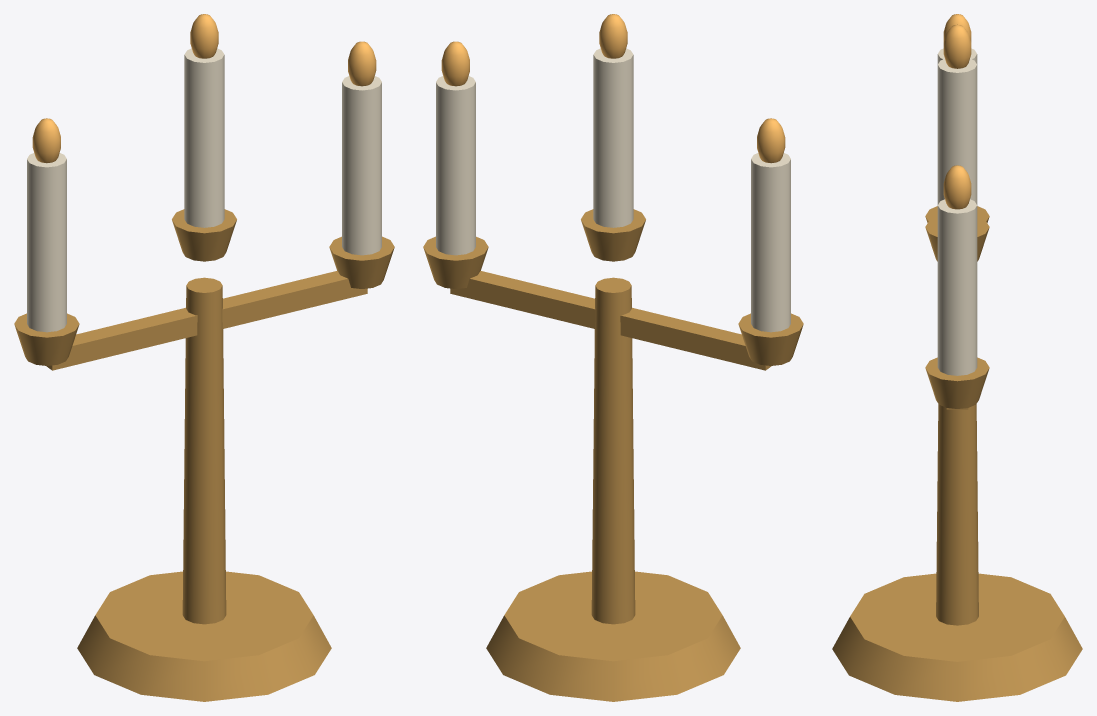
Rendered from candelabra.glb.
3 renders of one model, left to right at view 1: azimuth 30°, elevation 25°; view 2: azimuth 150°, elevation 25°; view 3: azimuth 270°, elevation 25°, orthographic.
Visible parts, largest first — view 1: Part0, Part1, Part2, Part7, Part10, Part4, Part6, Part3, Part9, Part8, Part11, Part5; view 2: Part0, Part1, Part2, Part7, Part10, Part4, Part6, Part3, Part9, Part8, Part11, Part5; view 3: Part0, Part1, Part10, Part7, Part9, Part8, Part11, Part6.
Part boxes in pixels (<box>): Part0: <box>77,571,331,701</box>; Part1: <box>182,277,226,624</box>; Part2: <box>46,271,367,370</box>; Part7: <box>184,48,224,227</box>; Part10: <box>342,76,381,255</box>; Part4: <box>27,153,66,332</box>; Part6: <box>172,209,236,261</box>; Part3: <box>14,313,79,365</box>; Part9: <box>329,236,394,288</box>; Part8: <box>190,14,218,58</box>; Part11: <box>348,41,376,86</box>; Part5: <box>32,118,60,163</box>; Part0: <box>486,571,740,701</box>; Part1: <box>591,277,635,624</box>; Part2: <box>450,271,771,370</box>; Part7: <box>593,48,633,227</box>; Part10: <box>436,76,475,255</box>; Part4: <box>751,153,790,332</box>; Part6: <box>581,209,645,261</box>; Part3: <box>738,313,803,365</box>; Part9: <box>423,236,488,288</box>; Part8: <box>599,14,627,58</box>; Part11: <box>441,41,469,86</box>; Part5: <box>757,118,785,163</box>; Part0: <box>832,573,1082,701</box>; Part1: <box>936,404,978,625</box>; Part10: <box>937,199,977,375</box>; Part7: <box>937,58,977,204</box>; Part9: <box>925,357,989,408</box>; Part8: <box>943,24,971,68</box>; Part11: <box>943,165,971,209</box>; Part6: <box>925,217,989,261</box>.
Size of the model in its own units: 0.236 by 0.3844 by 0.14.
